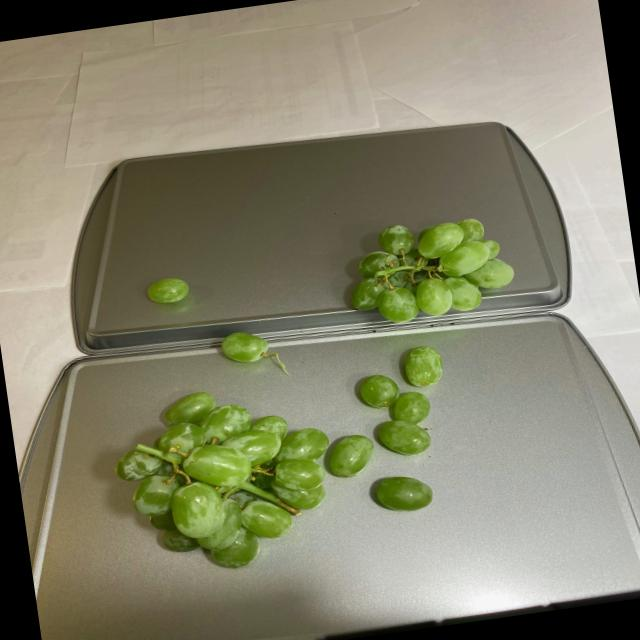grapes: (103, 344, 465, 582), (336, 208, 522, 330), (208, 326, 282, 368), (142, 274, 196, 306)
